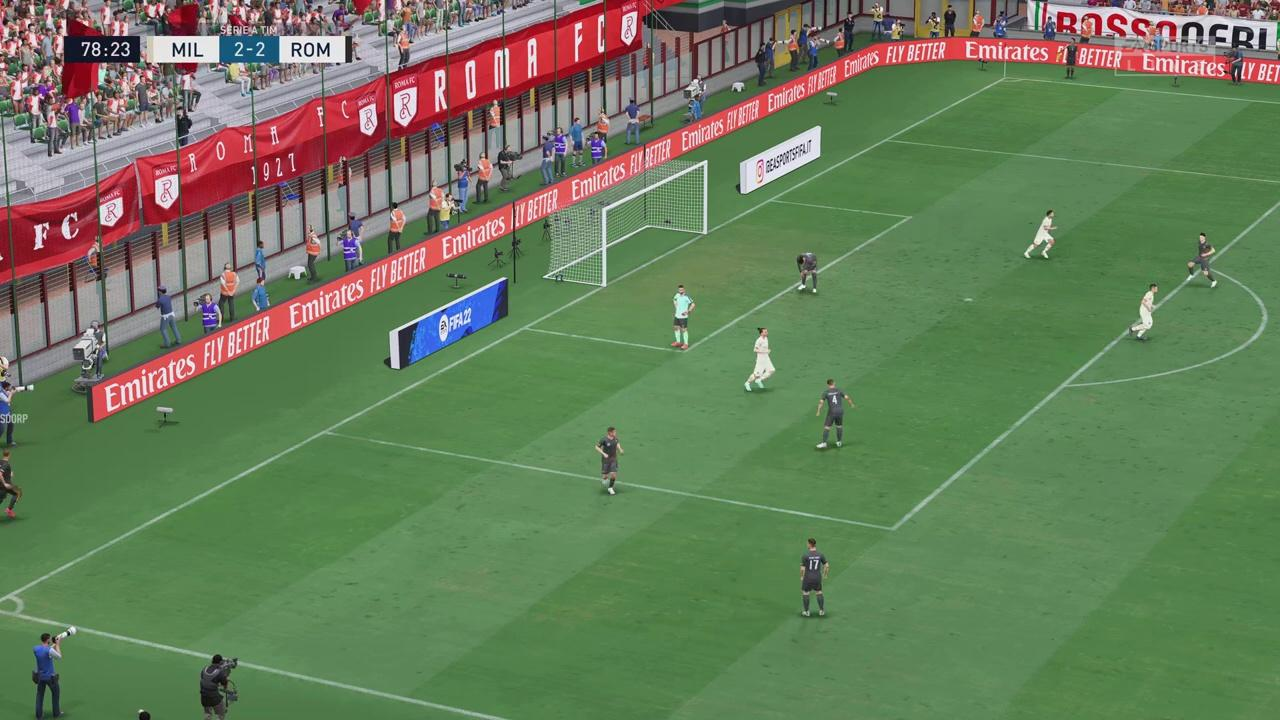scoreboard: (147, 38, 353, 62)
timestamp: (65, 34, 138, 60)
